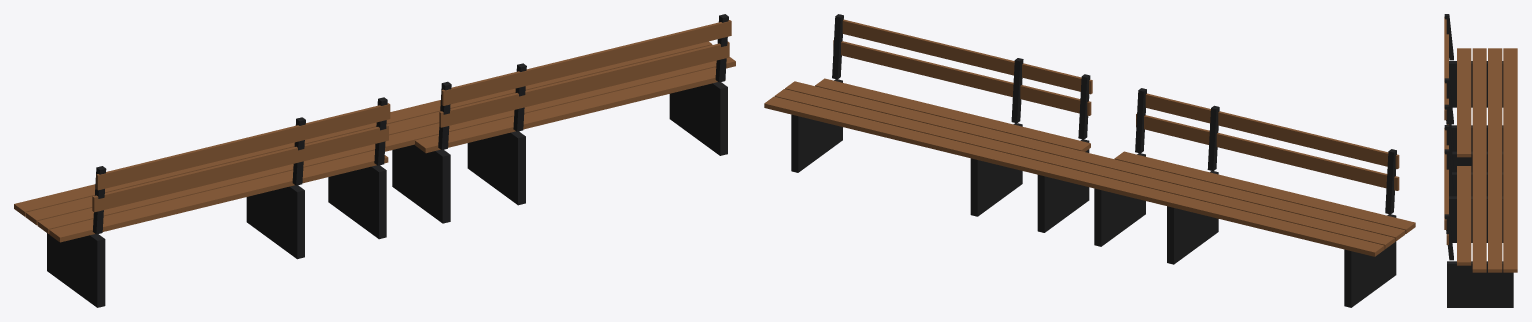
3 renders of one model, left to right at view 1: azimuth 30°, elevation 25°; view 2: azimuth 150°, elevation 25°; view 3: azimuth 270°, elevation 25°, orthographic. The views are drawn at different scales.
Visible parts, largest first — view 1: parametric-variant-bench-3rd-bc524352b0803d91ed3b; view 2: parametric-variant-bench-3rd-bc524352b0803d91ed3b; view 3: parametric-variant-bench-3rd-bc524352b0803d91ed3b.
Boxes of the visible parts, x1=… form: parametric-variant-bench-3rd-bc524352b0803d91ed3b: x1=14, y1=14, x2=735, y2=307; parametric-variant-bench-3rd-bc524352b0803d91ed3b: x1=764, y1=14, x2=1415, y2=307; parametric-variant-bench-3rd-bc524352b0803d91ed3b: x1=1444, y1=14, x2=1517, y2=307.
Bounding box in the file's own units: 4.4 × 0.85 × 0.6174.
